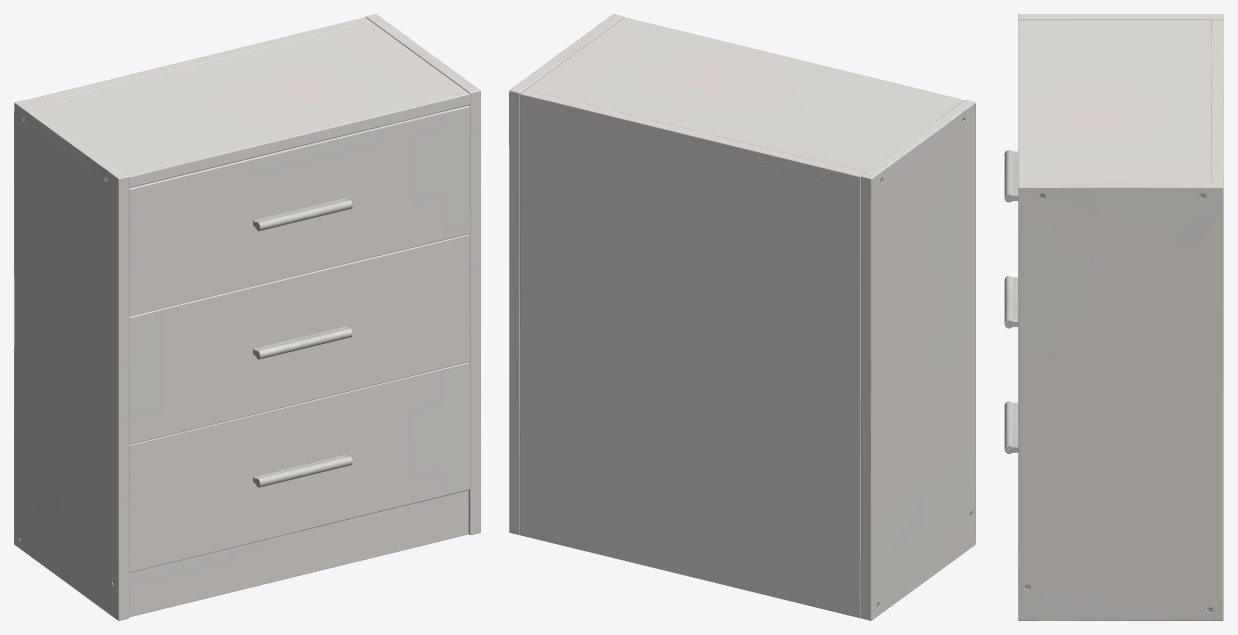
Rendered from vigrestad_komoda_30303326.glb.
The picture shows the model from 3 angles, left to right: view 1: azimuth 30°, elevation 25°; view 2: azimuth 150°, elevation 25°; view 3: azimuth 270°, elevation 25°; orthographic projection.
Visible parts, largest first — view 1: vigrestad_komoda_30303326; view 2: vigrestad_komoda_30303326; view 3: vigrestad_komoda_30303326.
Boxes of the visible parts, x1,y1,x2,y2 form: vigrestad_komoda_30303326: [14, 14, 480, 620]; vigrestad_komoda_30303326: [509, 14, 975, 620]; vigrestad_komoda_30303326: [1004, 14, 1223, 620].
Bounding box in the file's own units: 0.6001 × 0.7 × 0.3202.
Materials: 1 (1 with a texture image).
